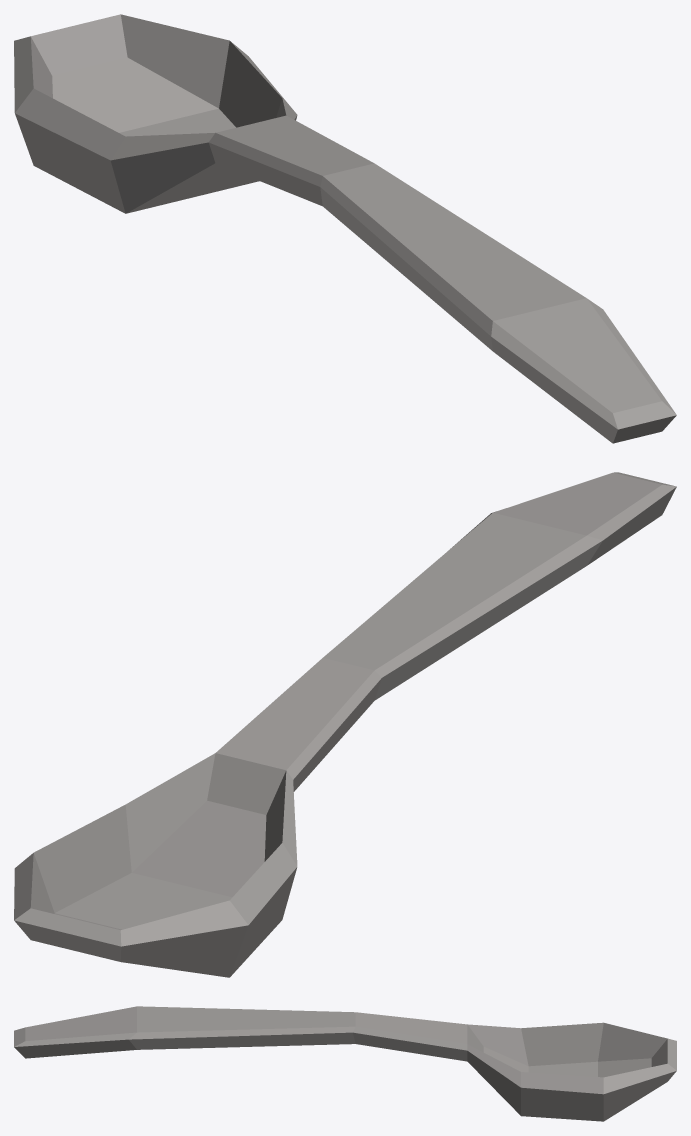
Rendered from SM_Item_Meal_Spoon_01.fbx.
The picture shows the model from 3 angles, top to bottom: view 1: azimuth 30°, elevation 25°; view 2: azimuth 150°, elevation 25°; view 3: azimuth 270°, elevation 25°; orthographic projection. The views are drawn at different scales.
Parts seen in each view (by area): view 1: SM_Item_Meal_Spoon_01; view 2: SM_Item_Meal_Spoon_01; view 3: SM_Item_Meal_Spoon_01.
Part boxes in pixels (x1,y1,x2,y2): SM_Item_Meal_Spoon_01: (14, 14, 676, 443); SM_Item_Meal_Spoon_01: (14, 472, 676, 977); SM_Item_Meal_Spoon_01: (14, 1006, 676, 1121).
Size of the model in its own units: 6.67 by 3.57 by 28.63.
